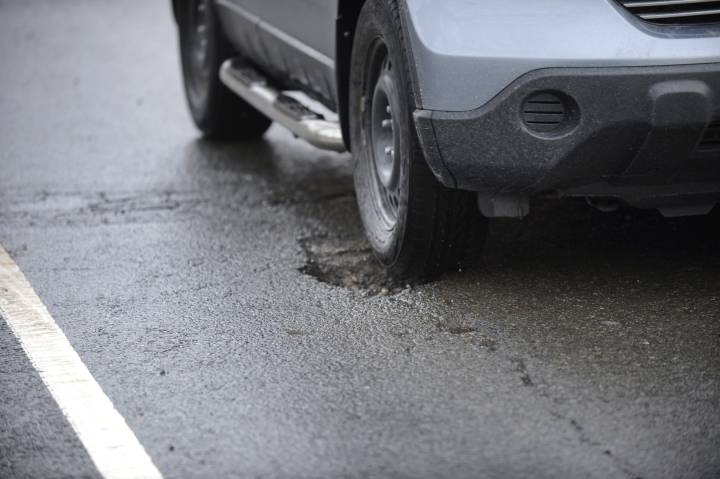pothole: (284, 228, 398, 312)
